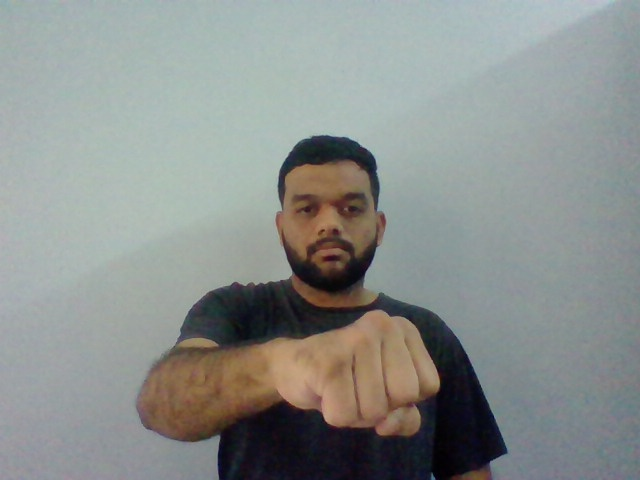Yes: (290, 308, 447, 438)
